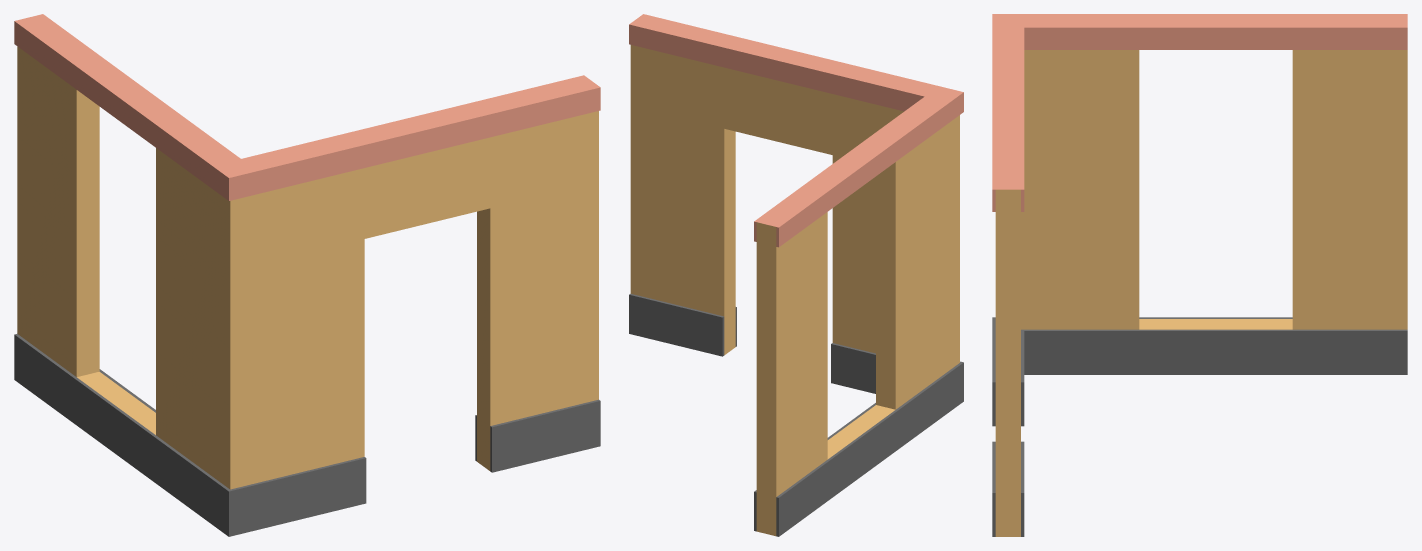
The model's file is Wall02-06.fbx.
The picture shows the model from 3 angles, left to right: view 1: azimuth 30°, elevation 25°; view 2: azimuth 150°, elevation 25°; view 3: azimuth 270°, elevation 25°; orthographic projection. The views are drawn at different scales.
Visible parts, largest first — view 1: Wall02-06; view 2: Wall02-06; view 3: Wall02-06.
Boxes of the visible parts, bbox=[...] form: Wall02-06: bbox=[14, 14, 600, 536]; Wall02-06: bbox=[629, 14, 963, 536]; Wall02-06: bbox=[992, 14, 1407, 536].
Size of the model in its own units: 3.25 by 3.25 by 3.
